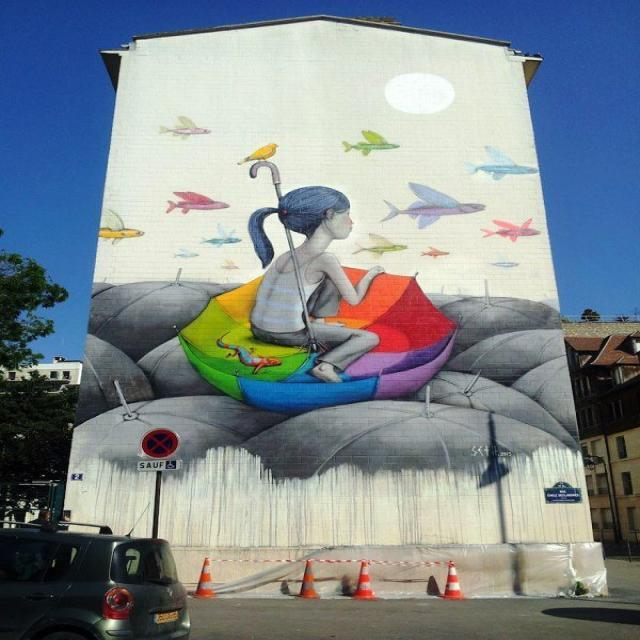-: (82, 117, 576, 486)
